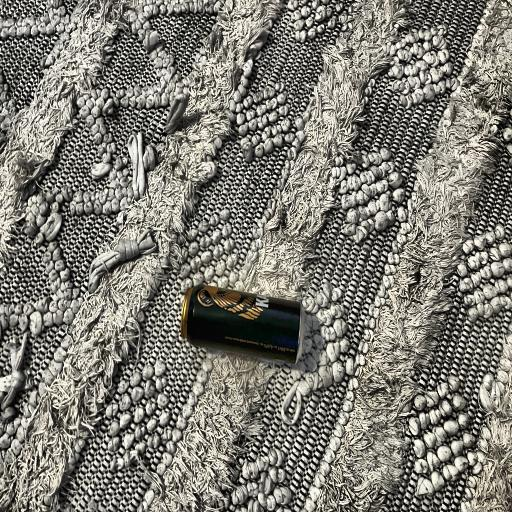karhu: (180, 277, 306, 367)
